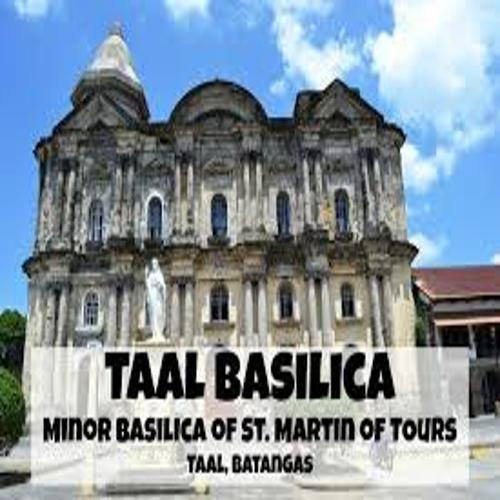Taal Basilica Church: (19, 16, 418, 350)
